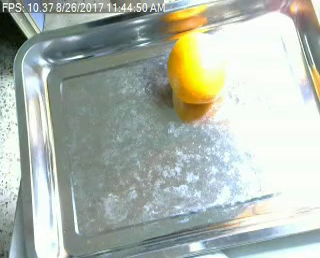Orange: (168, 33, 227, 104)
